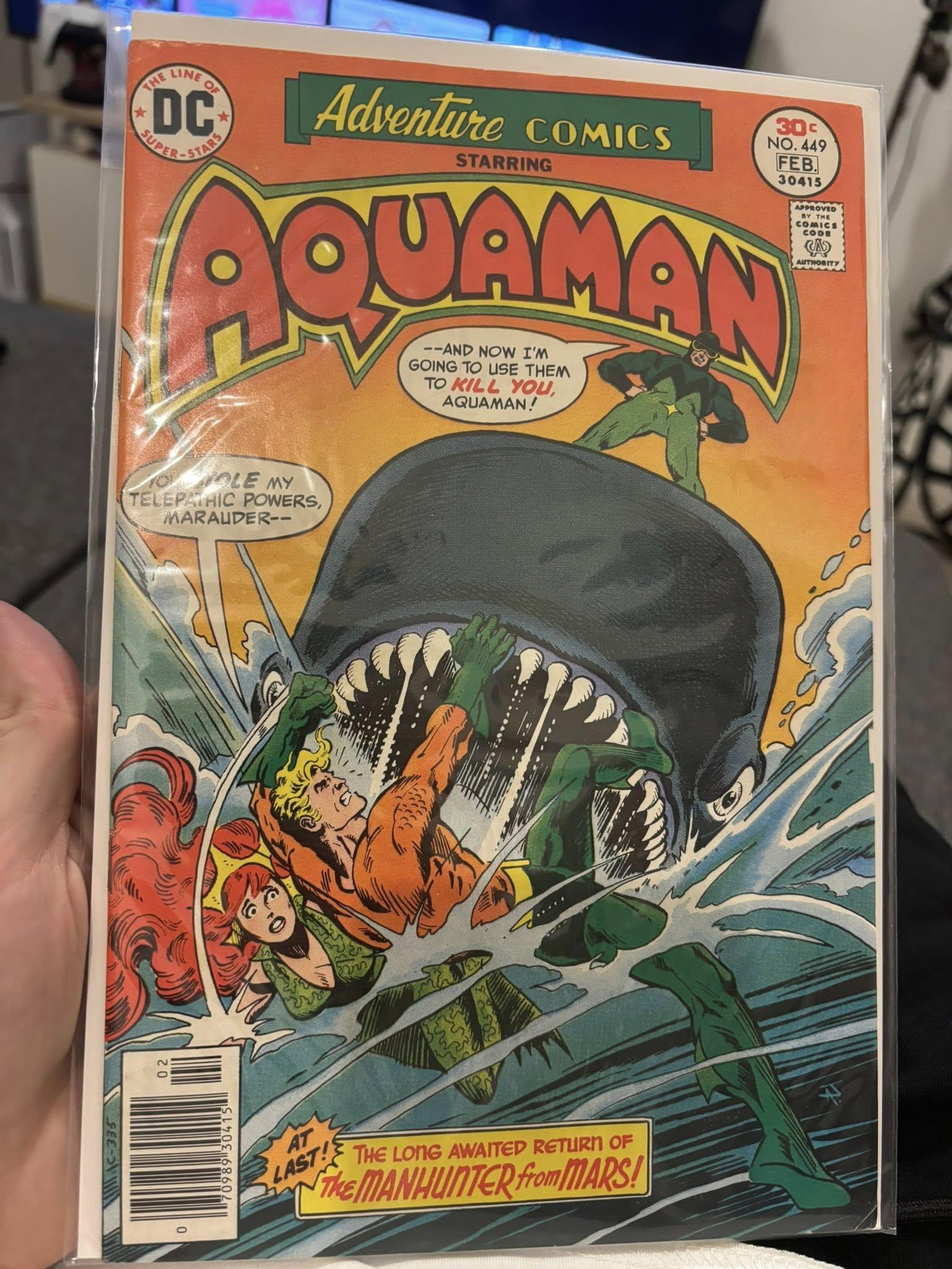comic: (78, 13, 929, 1269)
